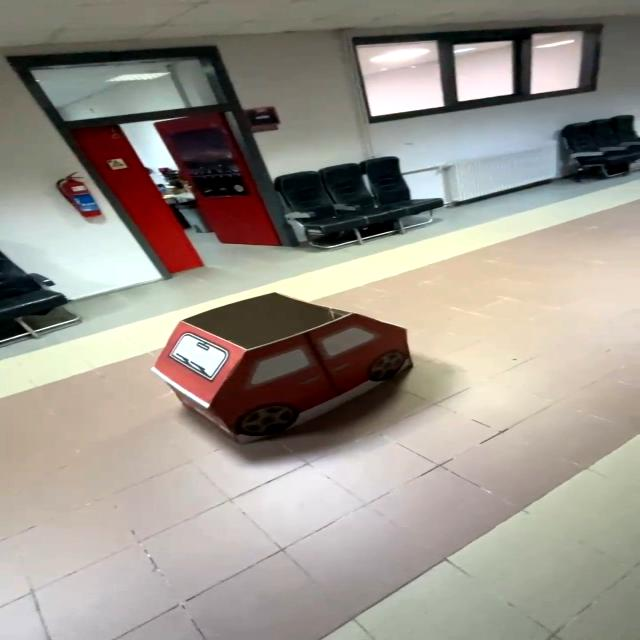red_car: (121, 281, 473, 455)
